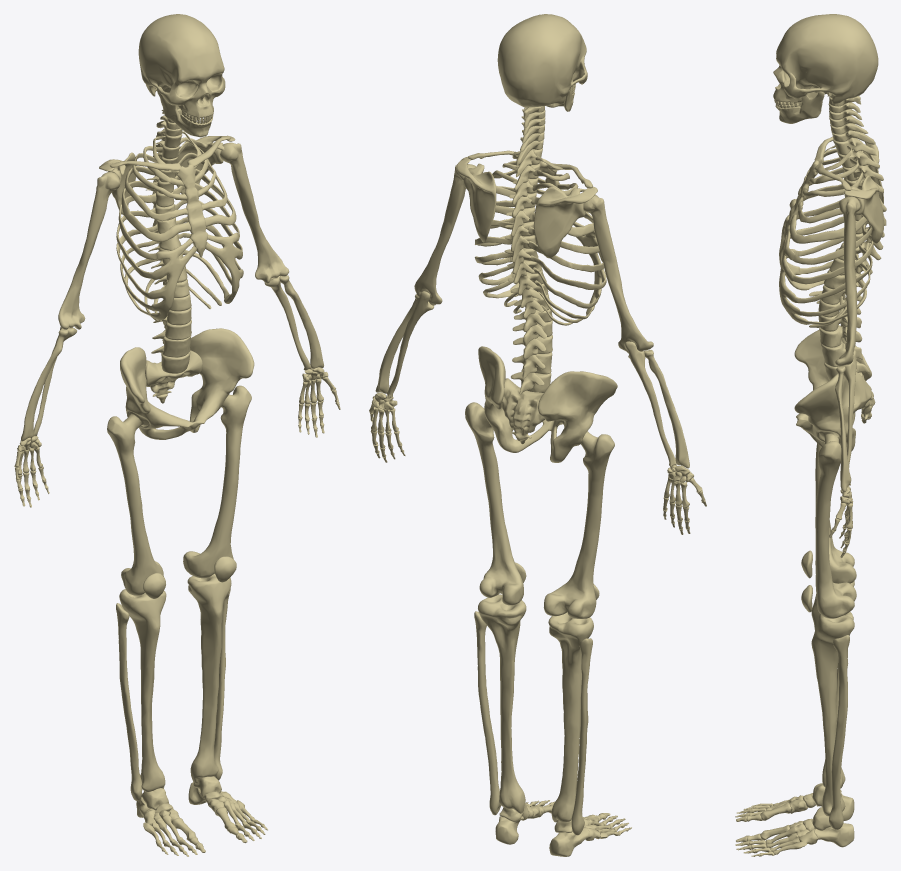
Rendered from female_human_skeleton_-_zbrush_-_anatomy_study.glb.
3 renders of one model, left to right at view 1: azimuth 30°, elevation 25°; view 2: azimuth 150°, elevation 25°; view 3: azimuth 270°, elevation 25°, orthographic. The views are drawn at different scales.
Visible parts, largest first — view 1: Object_2; view 2: Object_2; view 3: Object_2.
Part boxes in pixels (x1,y1,x2,y2): Object_2: [14, 14, 340, 856]; Object_2: [369, 14, 706, 856]; Object_2: [735, 14, 886, 856].
Bounding box in the file's own units: 6.73 × 15.87 × 2.68.
